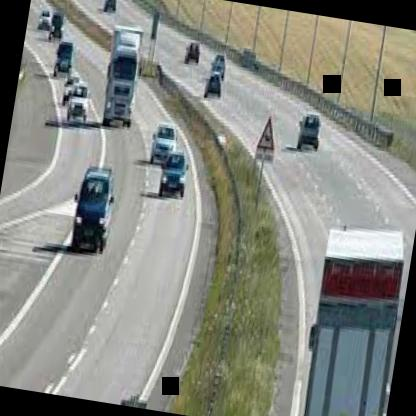car: (60, 160, 132, 278), (92, 18, 152, 136), (150, 144, 197, 222), (144, 115, 184, 180), (58, 72, 96, 127), (291, 107, 325, 152), (51, 35, 76, 84), (201, 61, 226, 105), (43, 6, 68, 45)
